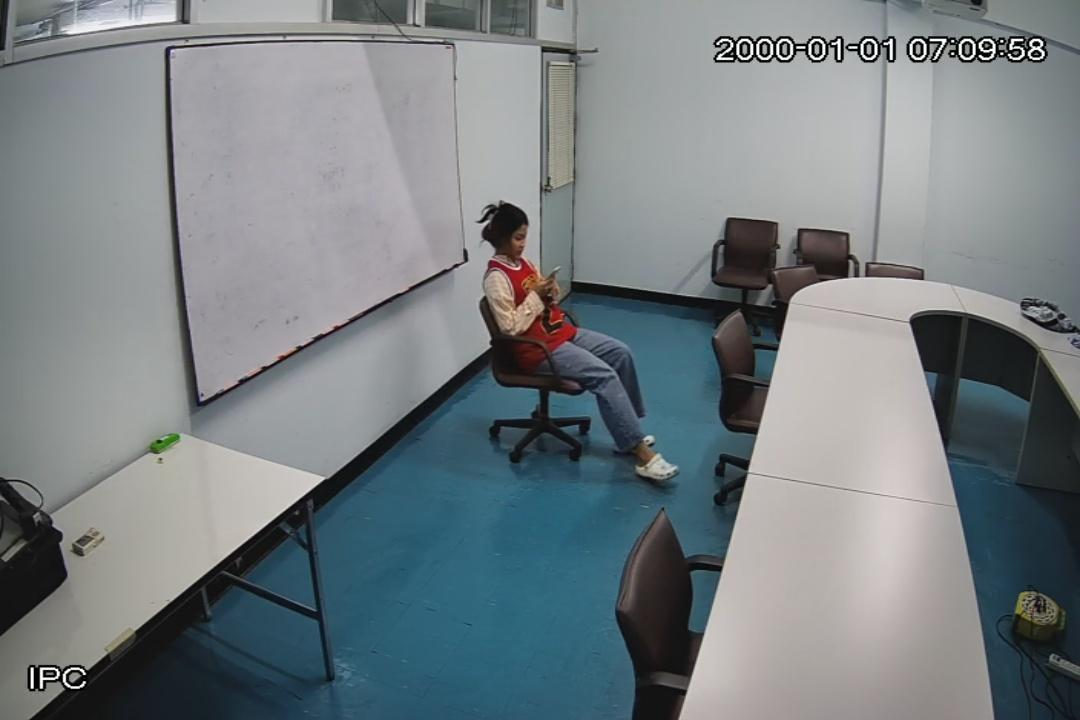normal: (484, 194, 686, 490)
